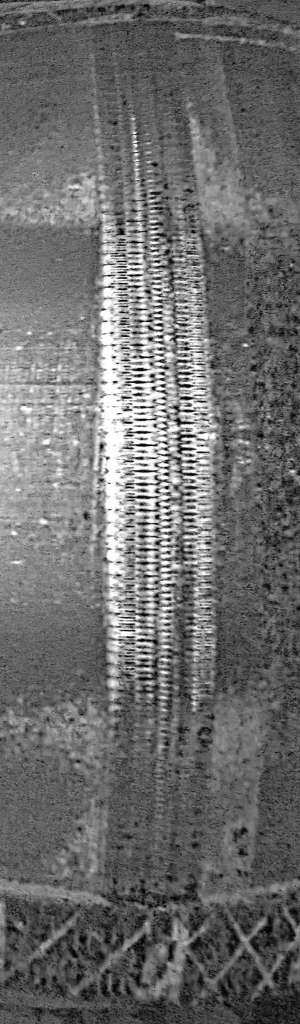splice: (93, 20, 214, 910)
